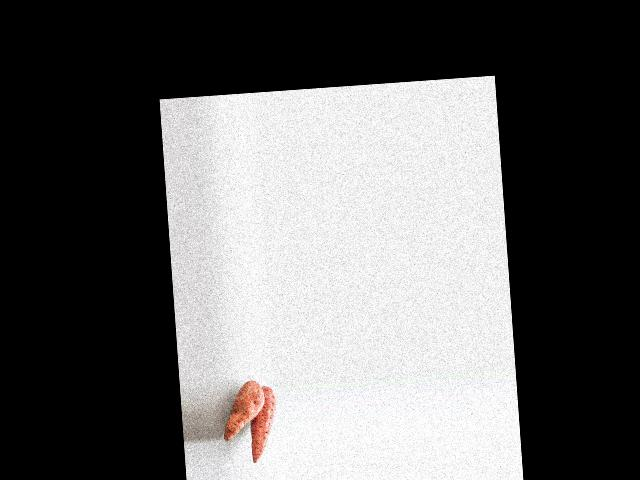sweet_potato: (247, 385, 278, 458)
